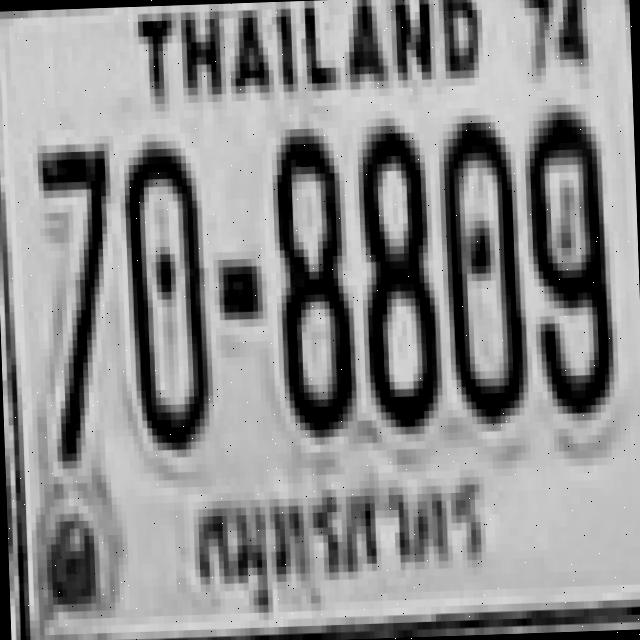0: (123, 136, 215, 447), (437, 114, 524, 417)
7: (32, 143, 119, 461), (32, 142, 116, 364)
8: (270, 123, 352, 434), (356, 121, 438, 424)
9: (523, 103, 610, 414)
SamutSakhon: (165, 455, 500, 614)
